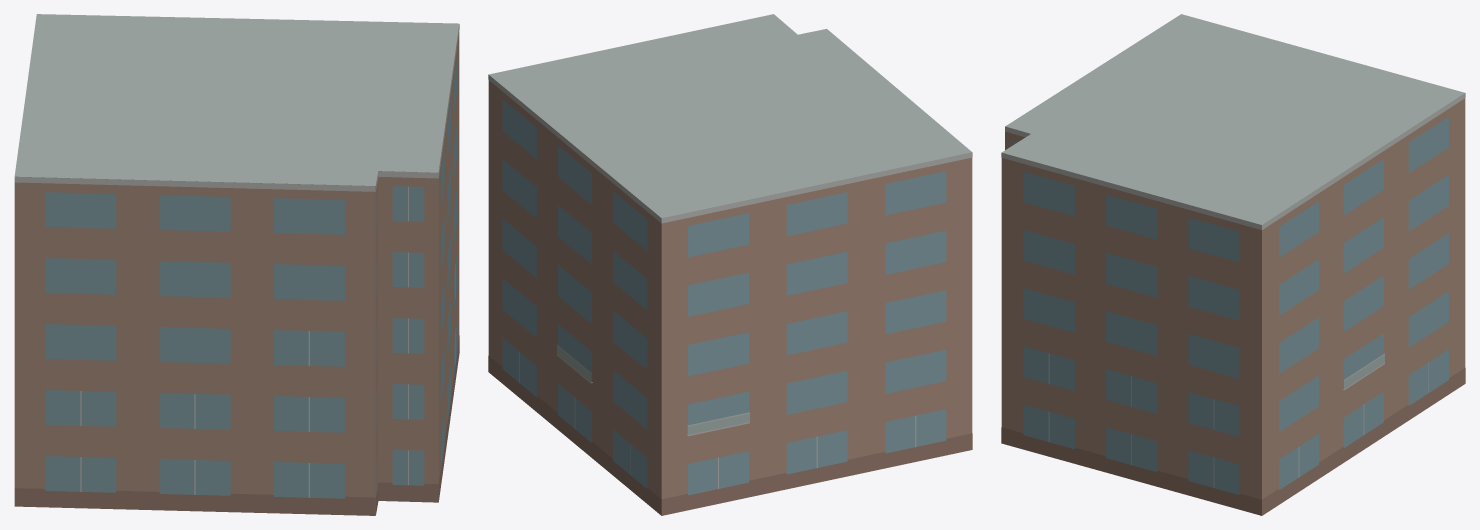
File: survey-upis-32678046.glb
The picture shows the model from 3 angles, left to right: view 1: azimuth 30°, elevation 25°; view 2: azimuth 150°, elevation 25°; view 3: azimuth 270°, elevation 25°; orthographic projection. The views are drawn at different scales.
Parts seen in each view (by area): view 1: survey-upis-32678046.tmp; view 2: survey-upis-32678046.tmp; view 3: survey-upis-32678046.tmp.
Boxes of the visible parts, box(x1,y1,x2,y2) form: survey-upis-32678046.tmp: box(14, 14, 459, 515); survey-upis-32678046.tmp: box(488, 14, 972, 515); survey-upis-32678046.tmp: box(1001, 14, 1465, 515).
Size of the model in its own units: 21.69 by 13.93 by 20.15.
